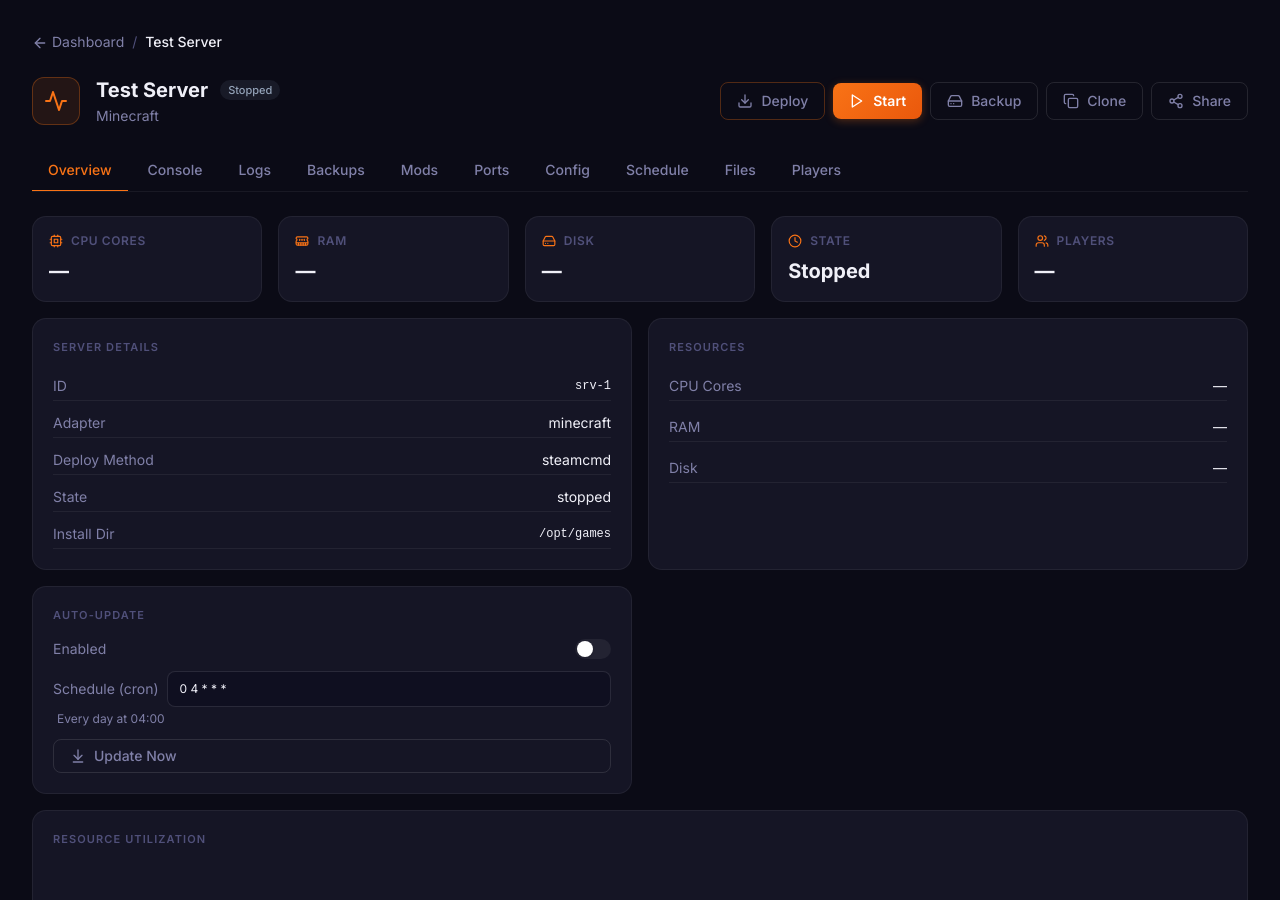
Test: ServerDetailPage › shows Share button and opens Share modal
Click the button "Share" at (1200, 101), box [1151,82,1248,120]
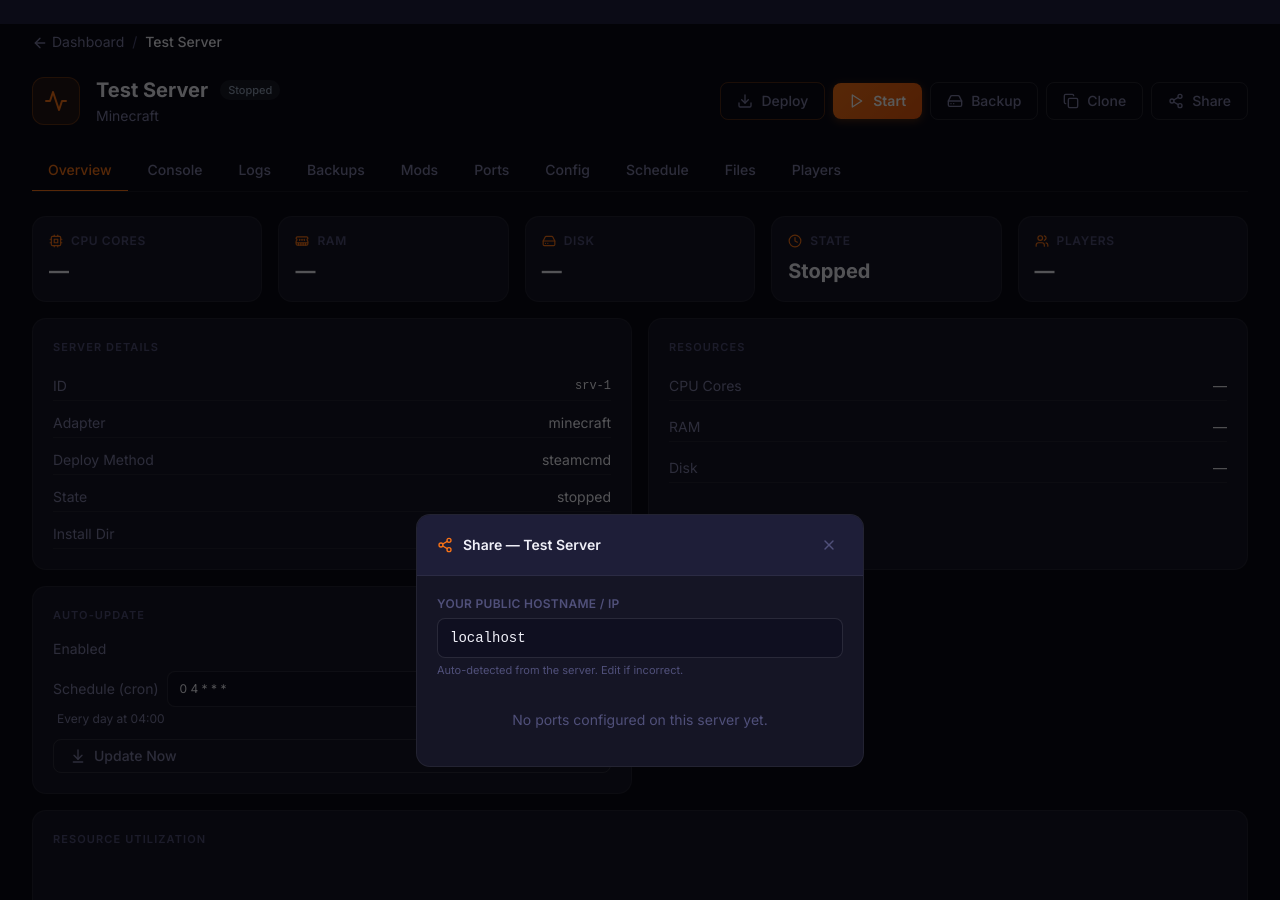
Expected: the text "Your public hostname / IP" is shown, [437,596,620,611]
